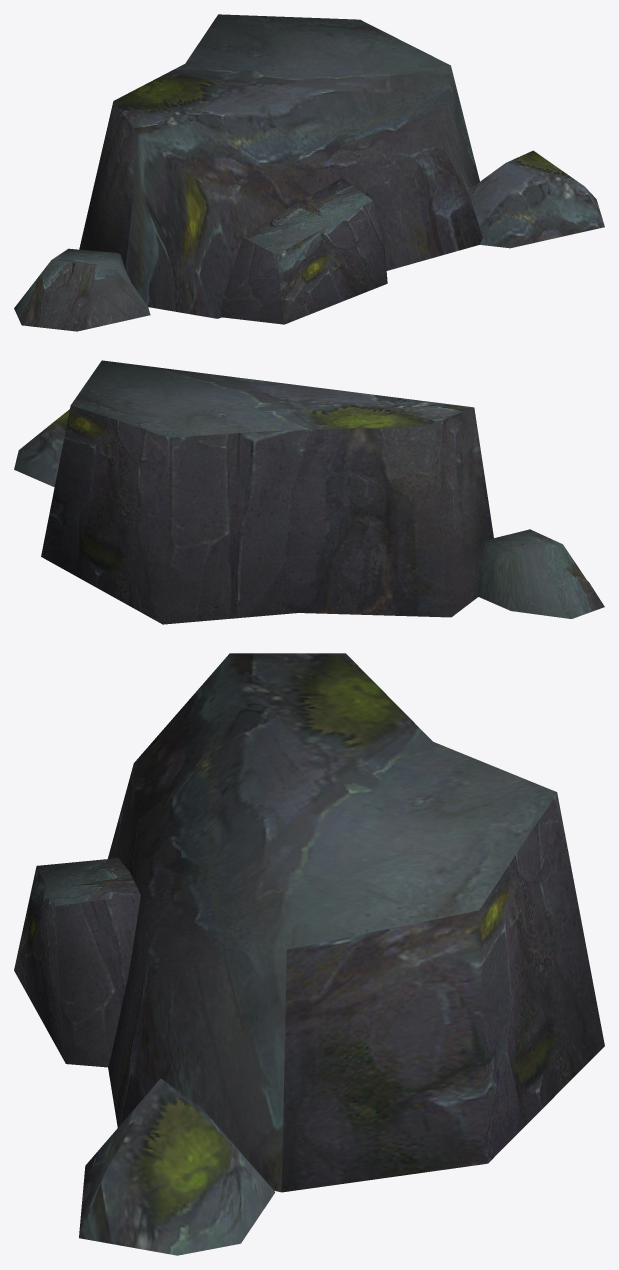
The model's file is yw_museyulin_fengbianshi04.FBX.
3 views of the same model, one above another, from view 1: azimuth 30°, elevation 25°; view 2: azimuth 150°, elevation 25°; view 3: azimuth 270°, elevation 25° (orthographic). The views are drawn at different scales.
Parts seen in each view (by area): view 1: yw_museyulin_fengbianshi04; view 2: yw_museyulin_fengbianshi04; view 3: yw_museyulin_fengbianshi04.
Boxes of the visible parts, x1,y1,x2,y2 form: yw_museyulin_fengbianshi04: [14, 14, 604, 331]; yw_museyulin_fengbianshi04: [14, 360, 604, 624]; yw_museyulin_fengbianshi04: [14, 653, 604, 1255].
Size of the model in its own units: 835 by 235 by 474.
